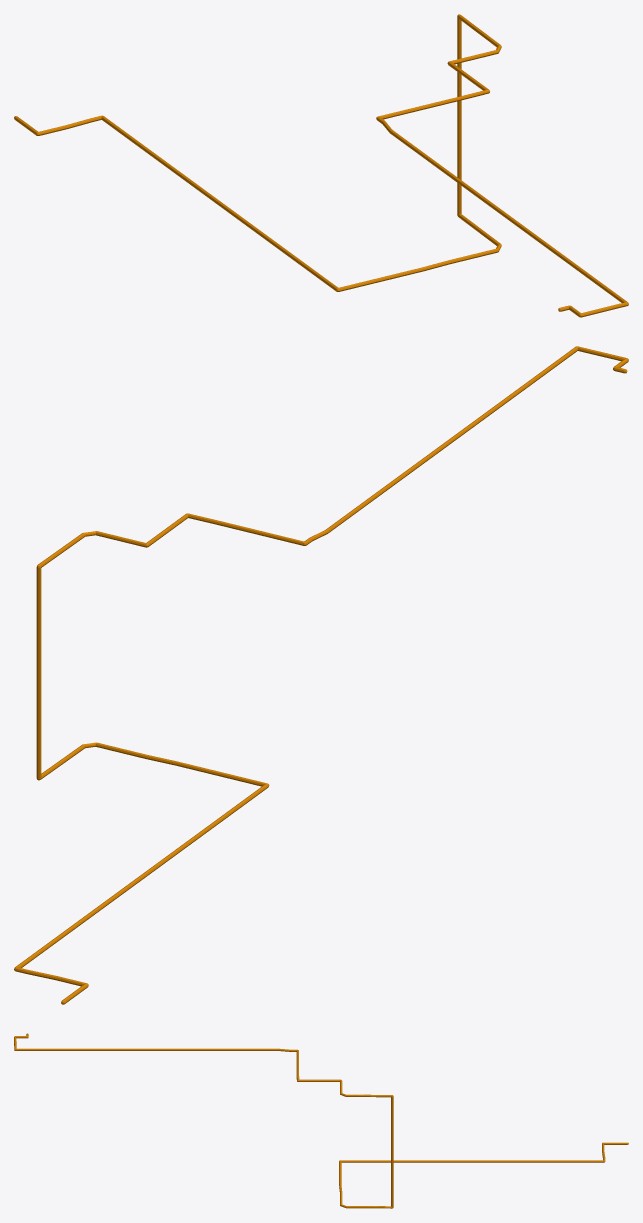
The picture shows the model from 3 angles, top to bottom: view 1: azimuth 30°, elevation 25°; view 2: azimuth 150°, elevation 25°; view 3: azimuth 270°, elevation 25°; orthographic projection. The views are drawn at different scales.
Size of the model in its own units: 1247 by 1020 by 5010.
